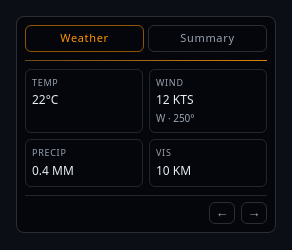
Test: HudCockpitBriefingPanel › summary tab shows bullets and manual nav advances
The width and height of the screenshot is (292, 250).
Expected: the text "TEMP" is shown, [32,76,58,88]
Click the tab with test id "hud-cockpit-tab-summary": (208, 38) [148,25,267,52]
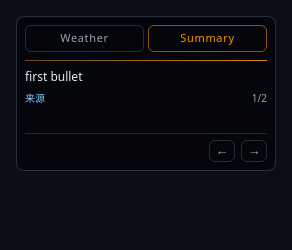
Expected: the text "first bullet" is shown, [25,68,82,84]
Click the button named "下一页 / Next": (254, 150) [241,140,267,162]
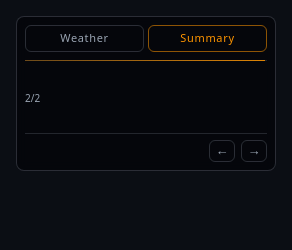
Click the button named "上一页 / Previous": (222, 150) [209,140,235,162]
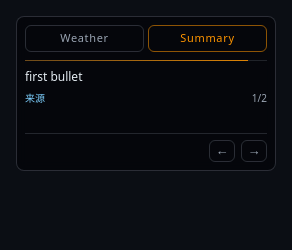
Expected: the text "first bullet" is shown, [25,68,82,84]
